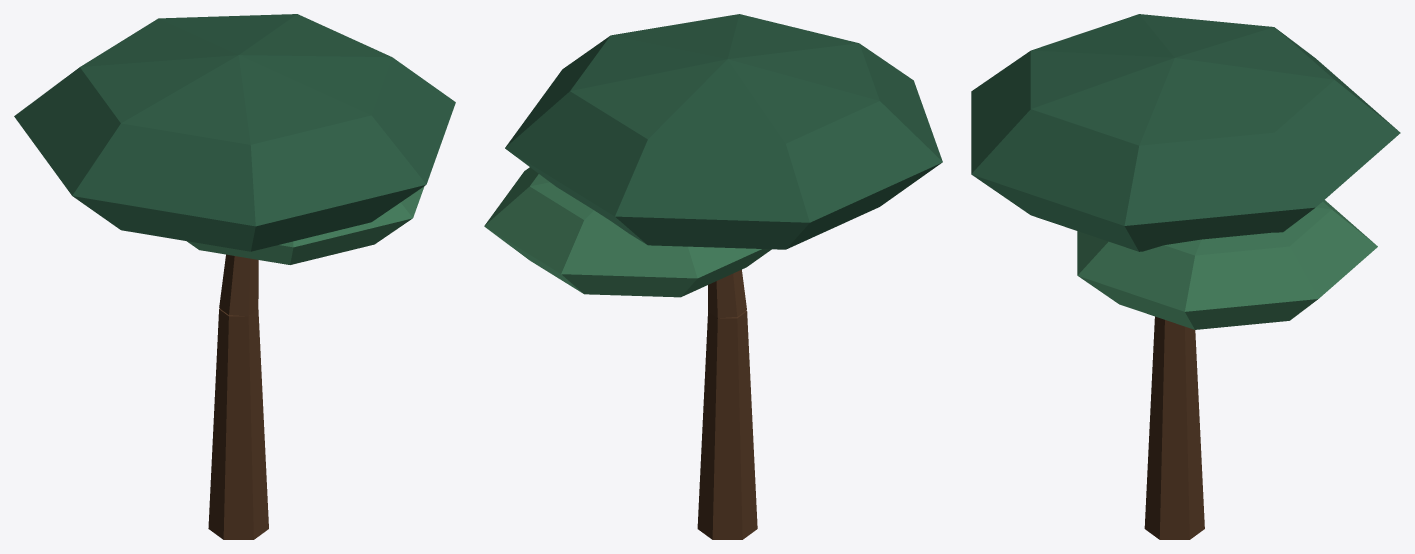
Rendered from nature_pine_b.glb.
3 renders of one model, left to right at view 1: azimuth 30°, elevation 25°; view 2: azimuth 150°, elevation 25°; view 3: azimuth 270°, elevation 25°, orthographic.
Visible parts, largest first — view 1: nature_pine_b; view 2: nature_pine_b; view 3: nature_pine_b.
Boxes of the visible parts, left/top/right/bottom form: nature_pine_b: left=14, top=14, right=455, bottom=539; nature_pine_b: left=484, top=14, right=942, bottom=539; nature_pine_b: left=971, top=14, right=1400, bottom=539.
Bounding box in the file's own units: 2.99 × 3.45 × 2.85.
